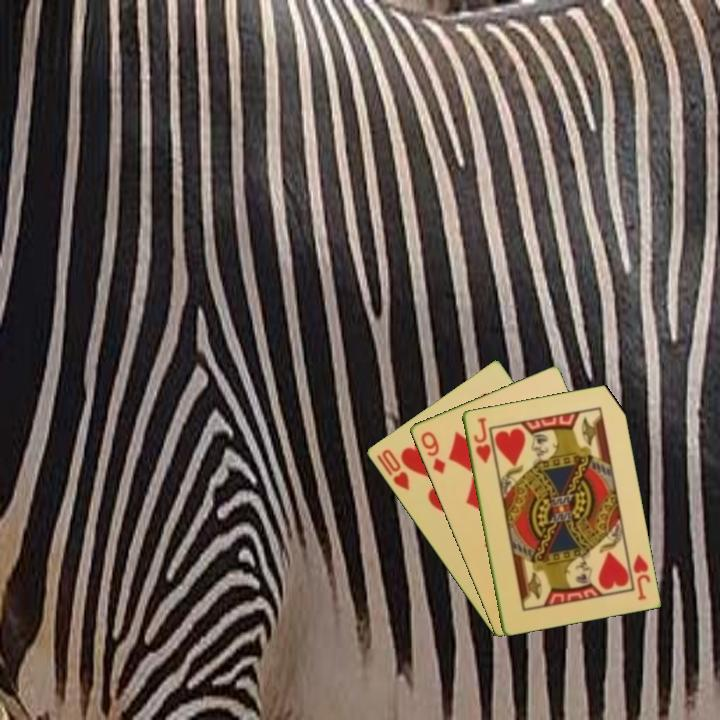10h: (373, 445, 412, 493)
9d: (417, 428, 448, 477)
Jh: (629, 550, 653, 603), (470, 414, 493, 466)
